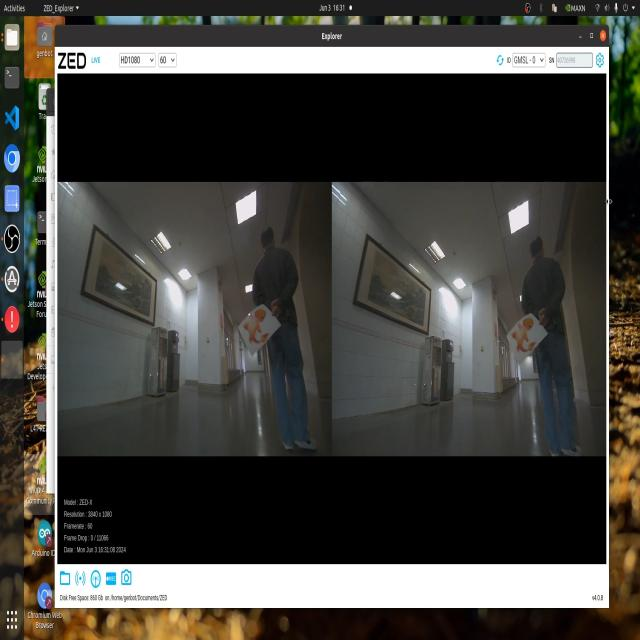red: (243, 301, 268, 348), (512, 309, 536, 357)
